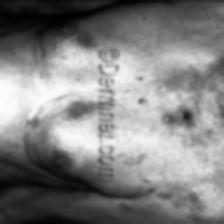Potentially Malignant Skin Tumors: (162, 110, 194, 124), (47, 214, 88, 224)
